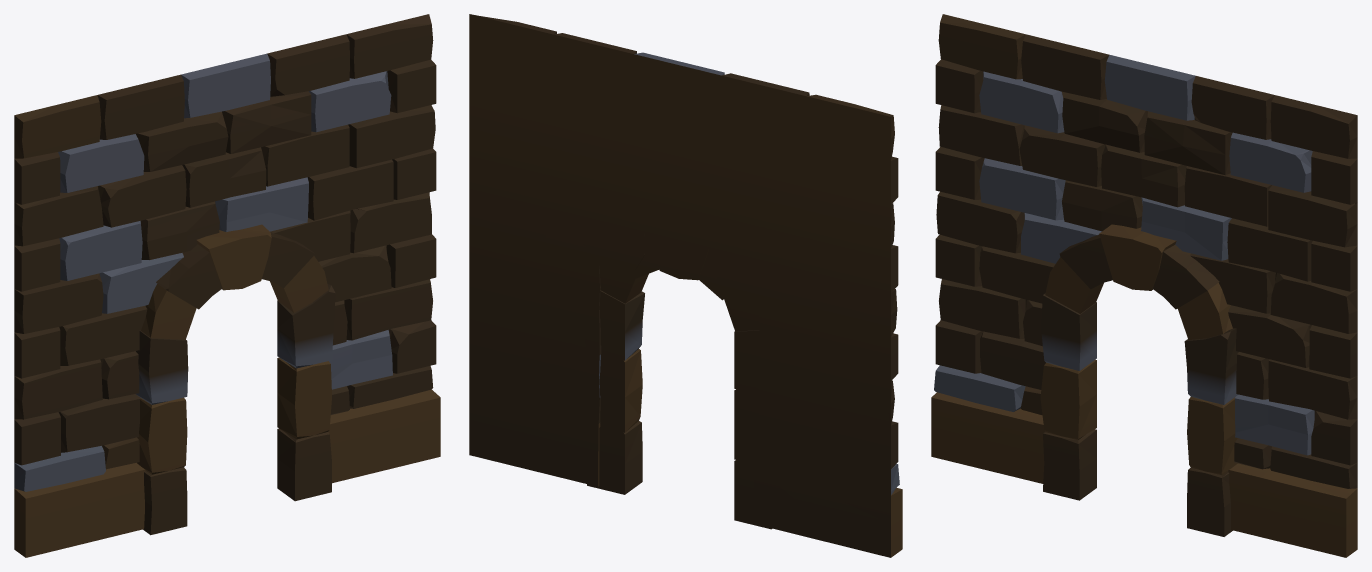
The model's file is Wall_33.fbx.
The picture shows the model from 3 angles, left to right: view 1: azimuth 30°, elevation 25°; view 2: azimuth 150°, elevation 25°; view 3: azimuth 330°, elevation 25°; orthographic projection.
Parts seen in each view (by area): view 1: Wall_33; view 2: Wall_33; view 3: Wall_33.
Boxes of the visible parts, x1,y1,x2,y2 form: Wall_33: (14,14,440,557); Wall_33: (469,14,902,557); Wall_33: (931,14,1357,557).
Bounding box in the file's own units: 4 × 4.02 × 0.3318.
